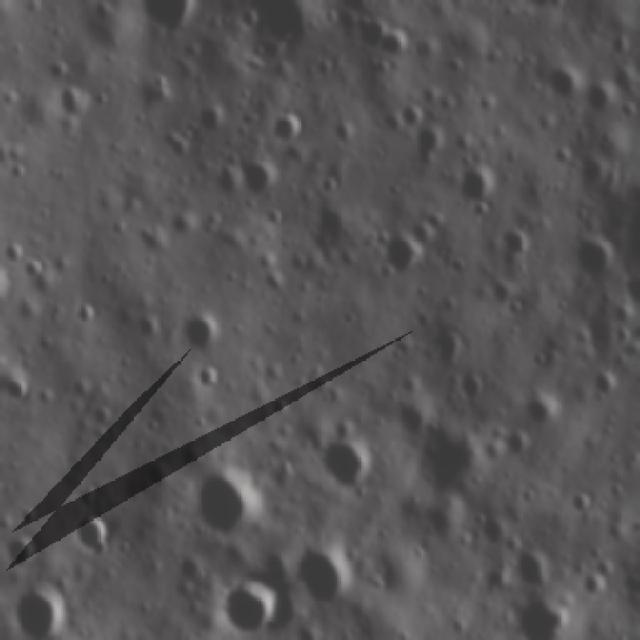crater: (406, 422, 496, 502), (189, 460, 268, 540), (310, 434, 382, 500), (210, 573, 281, 636), (287, 544, 356, 604), (375, 528, 430, 602), (9, 583, 72, 640), (562, 225, 618, 284), (61, 508, 117, 566), (501, 597, 570, 638), (378, 228, 429, 282), (451, 158, 502, 210), (504, 544, 558, 590), (315, 202, 363, 253), (178, 308, 224, 354), (487, 220, 535, 263), (234, 156, 283, 198), (346, 7, 388, 56), (409, 119, 449, 170), (546, 56, 586, 107), (270, 104, 312, 150), (582, 76, 620, 121), (521, 384, 562, 425), (160, 122, 195, 170), (433, 328, 473, 370), (449, 367, 494, 404), (58, 78, 97, 120), (246, 34, 289, 72), (4, 533, 42, 573), (198, 100, 232, 143), (3, 374, 42, 409), (573, 150, 605, 192), (588, 363, 624, 400), (189, 363, 228, 397), (377, 27, 412, 64), (482, 561, 515, 599), (138, 308, 170, 346), (580, 567, 612, 604), (560, 487, 598, 518), (70, 298, 102, 330), (232, 3, 265, 34), (318, 170, 342, 201), (332, 415, 353, 447), (520, 480, 540, 512), (528, 347, 550, 373)
